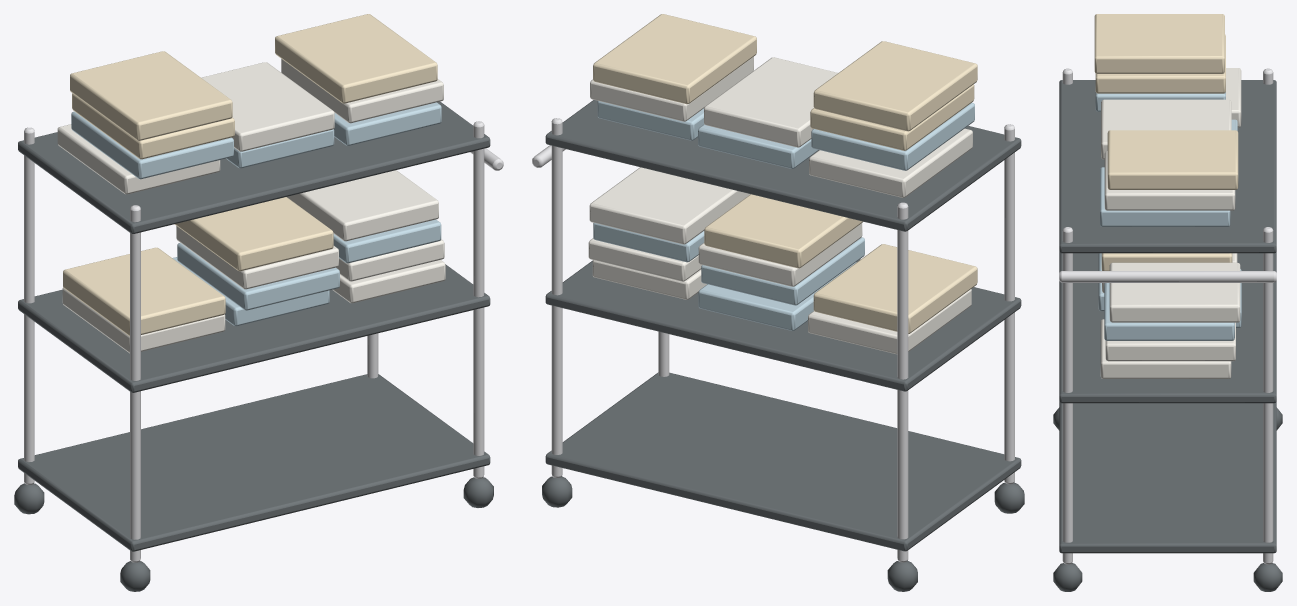
Rendered from towel_cart.mobile.glb.
3 views of the same model, side by side, from view 1: azimuth 30°, elevation 25°; view 2: azimuth 150°, elevation 25°; view 3: azimuth 270°, elevation 25° (orthographic). The views are drawn at different scales.
Parts seen in each view (by area): view 1: TowelCart; view 2: TowelCart; view 3: TowelCart.
Boxes of the visible parts, x1,y1,x2,y2 form: TowelCart: (14, 14, 503, 591); TowelCart: (532, 14, 1024, 591); TowelCart: (1053, 14, 1282, 591).
Bounding box in the file's own units: 0.945 × 1.08 × 0.5266.
